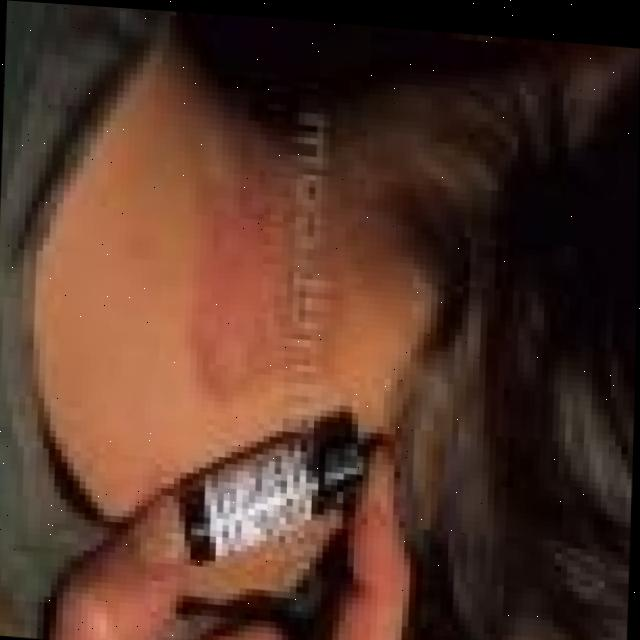Melasma: (191, 174, 304, 387)
